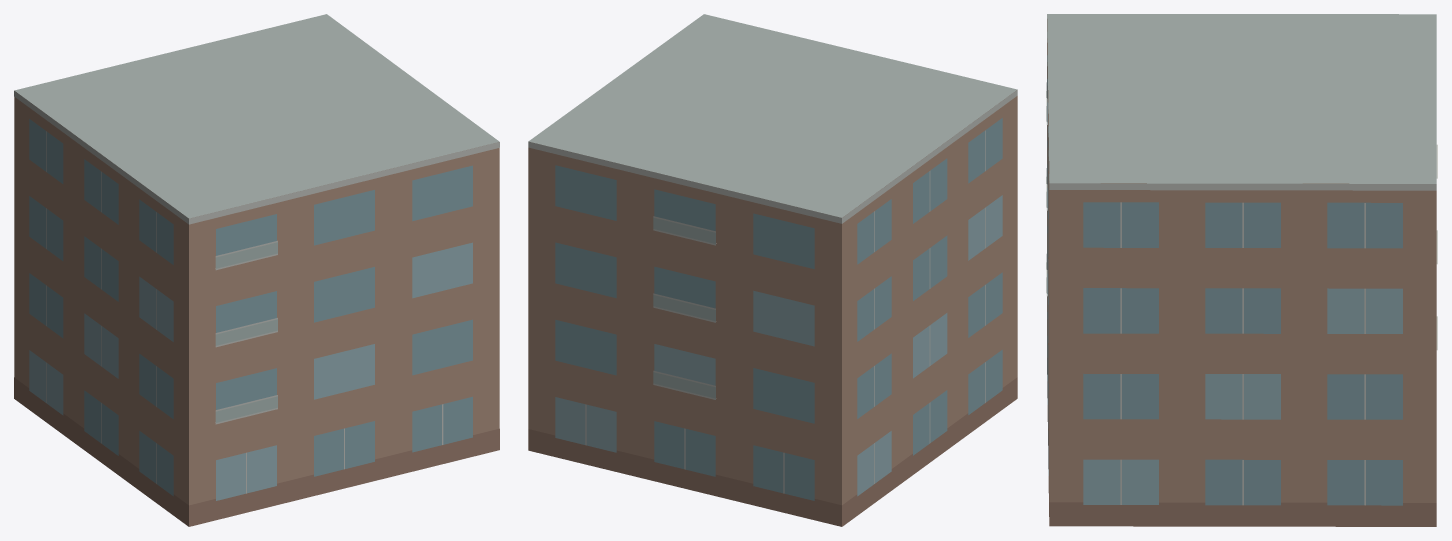
The model's file is survey-upis-32971670.glb.
3 renders of one model, left to right at view 1: azimuth 30°, elevation 25°; view 2: azimuth 150°, elevation 25°; view 3: azimuth 270°, elevation 25°, orthographic. The views are drawn at different scales.
Visible parts, largest first — view 1: survey-upis-32971670.tmp; view 2: survey-upis-32971670.tmp; view 3: survey-upis-32971670.tmp.
Boxes of the visible parts, left/top/right/bottom form: survey-upis-32971670.tmp: left=14, top=14, right=499, bottom=526; survey-upis-32971670.tmp: left=528, top=14, right=1017, bottom=526; survey-upis-32971670.tmp: left=1046, top=14, right=1437, bottom=526.
Bounding box in the file's own units: 13.29 × 12.5 × 12.94.
